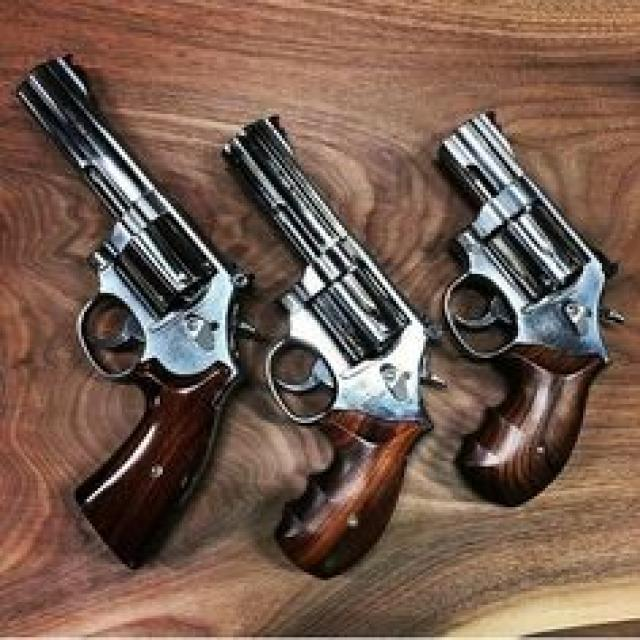revolver: (6, 46, 640, 578)
